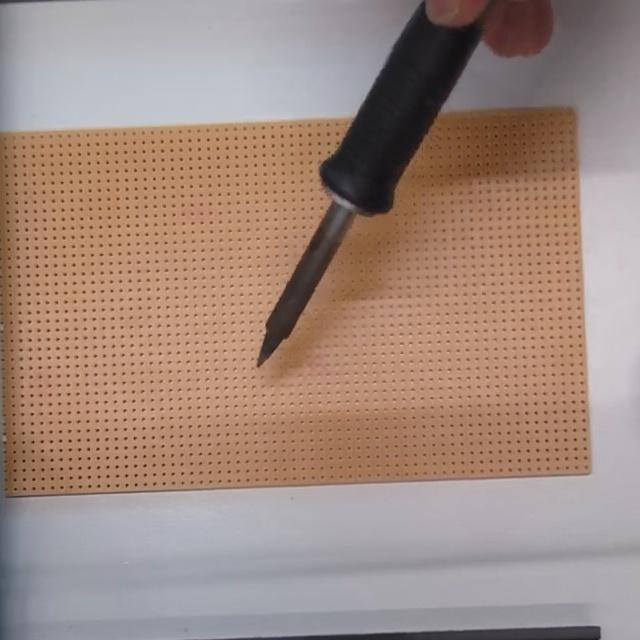soldering_iron: (253, 0, 488, 370)
